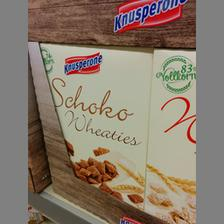Cerealien: (32, 41, 156, 209), (143, 48, 195, 224)
